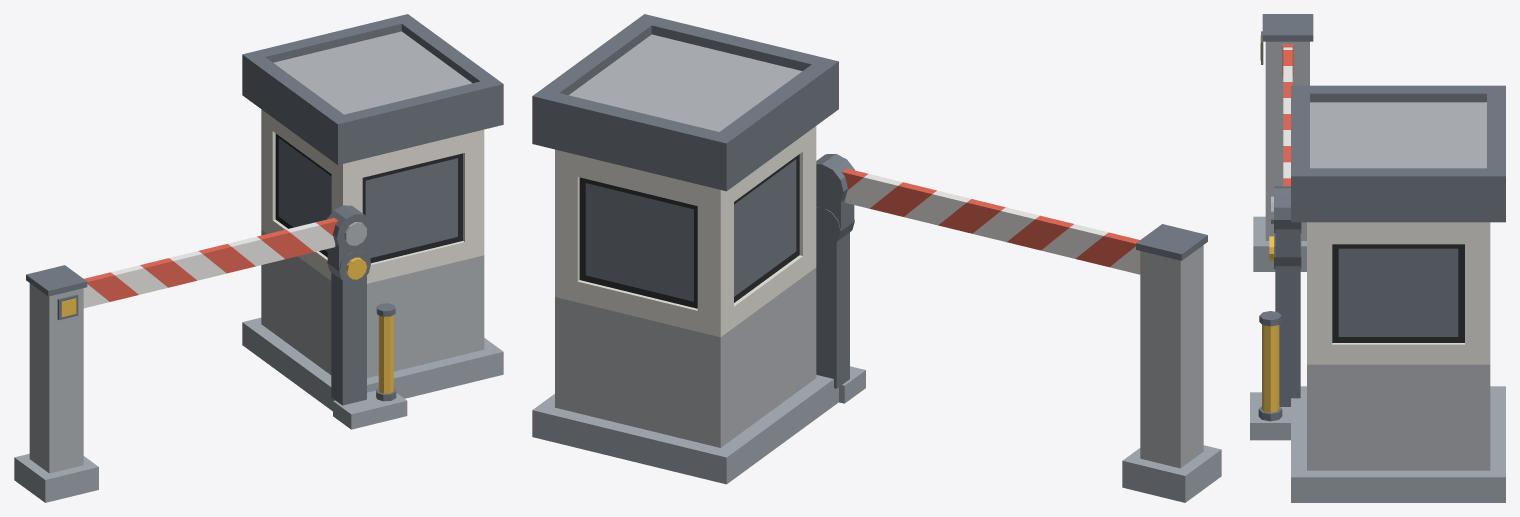
Rendered from security gate.fbx.
3 renders of one model, left to right at view 1: azimuth 30°, elevation 25°; view 2: azimuth 150°, elevation 25°; view 3: azimuth 270°, elevation 25°, orthographic. The views are drawn at different scales.
Visible parts, largest first — view 1: Boom_End_Cap; view 2: Boom_End_Cap; view 3: Boom_End_Cap.
Boxes of the visible parts, <box> form: Boom_End_Cap: <box>14,14,503,502</box>; Boom_End_Cap: <box>532,14,1221,502</box>; Boom_End_Cap: <box>1250,14,1505,502</box>.
Size of the model in its own units: 390 by 228 by 162.
